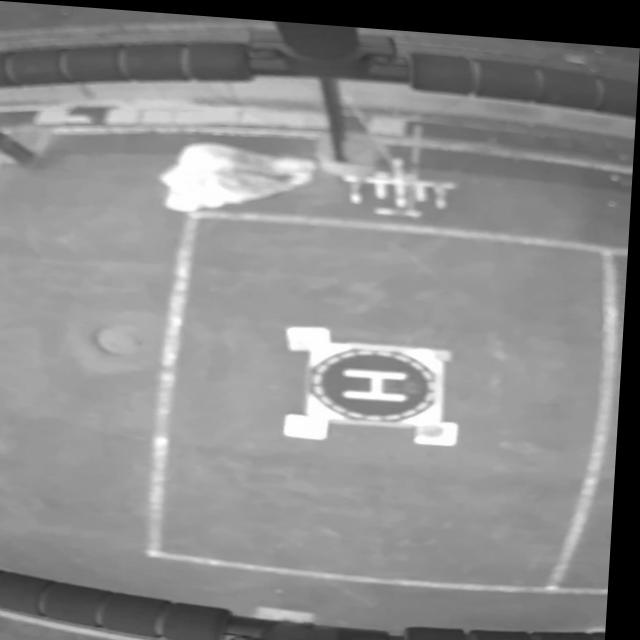Helipad: (347, 361, 411, 395)
